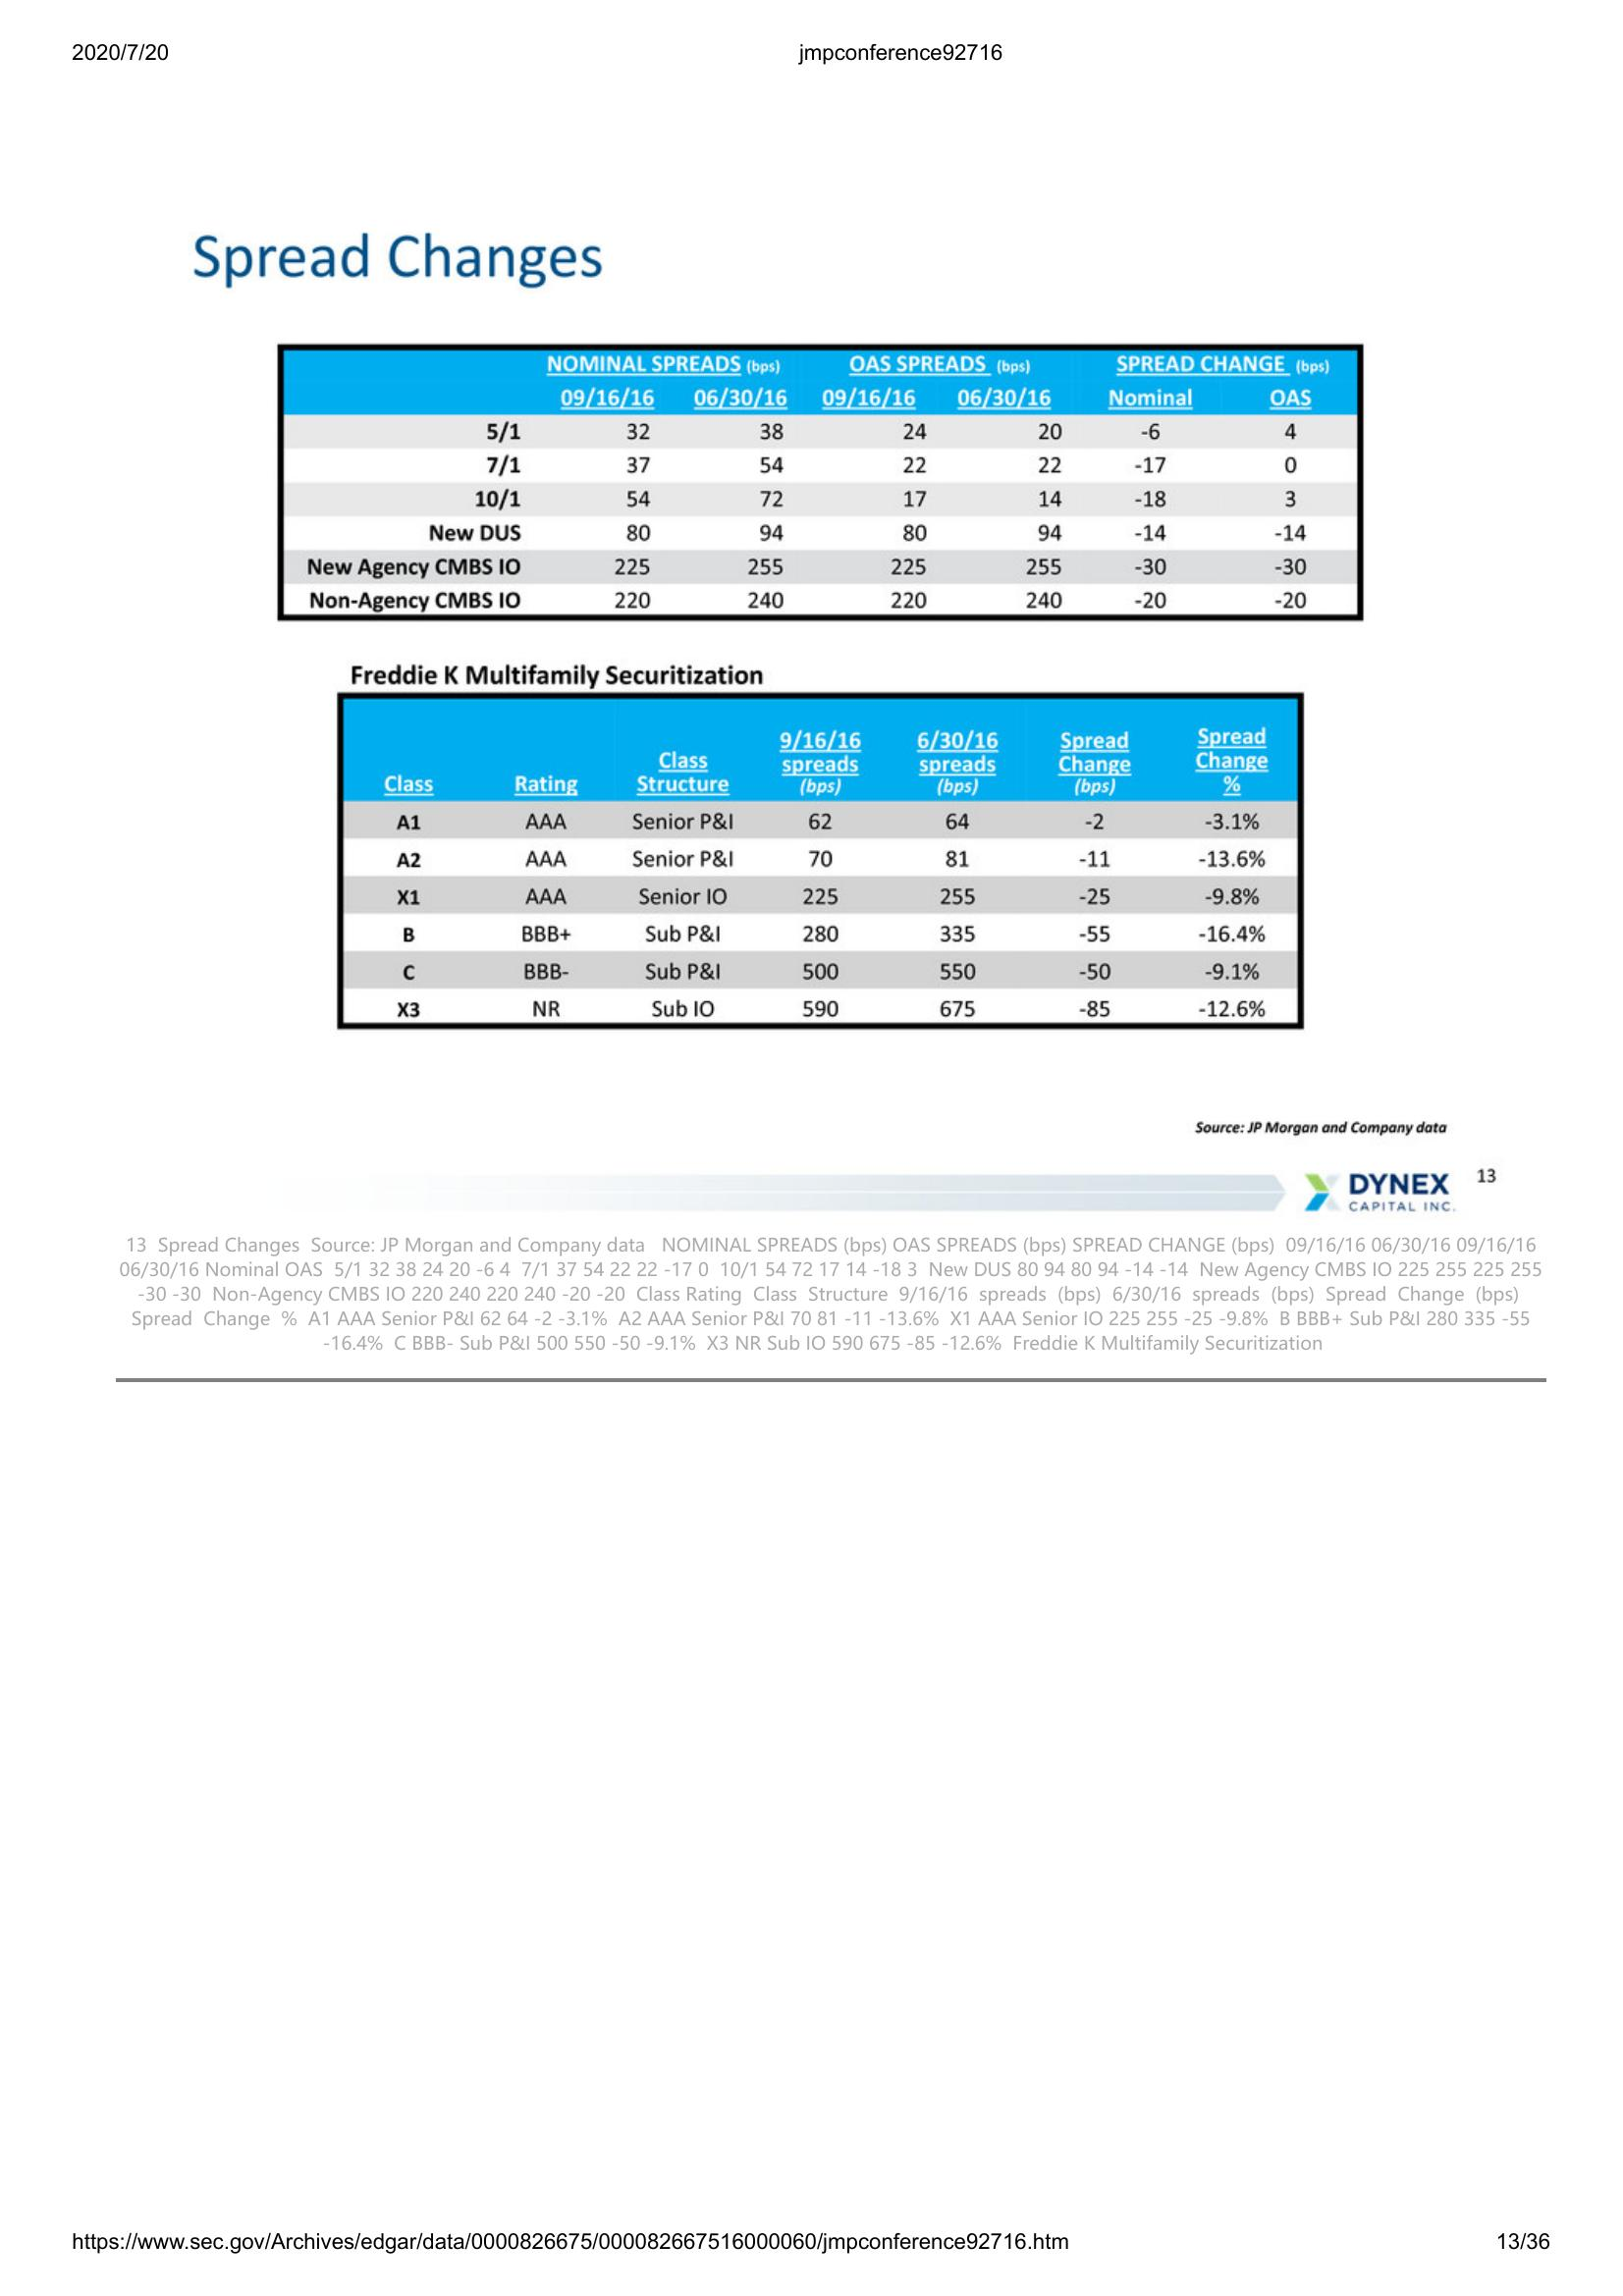table: (330, 690, 1310, 1034), (270, 337, 1374, 625)
